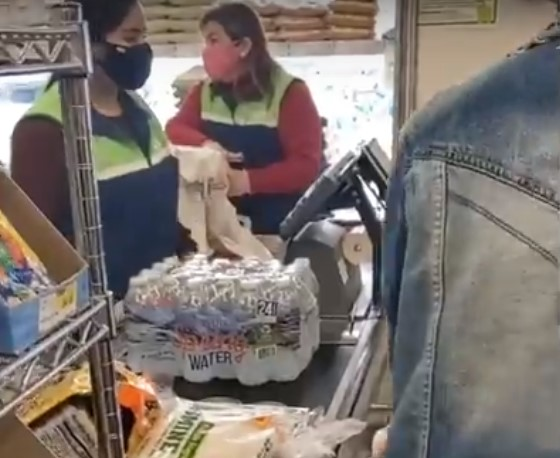face_with_mask: (82, 1, 156, 93), (199, 5, 263, 87)
